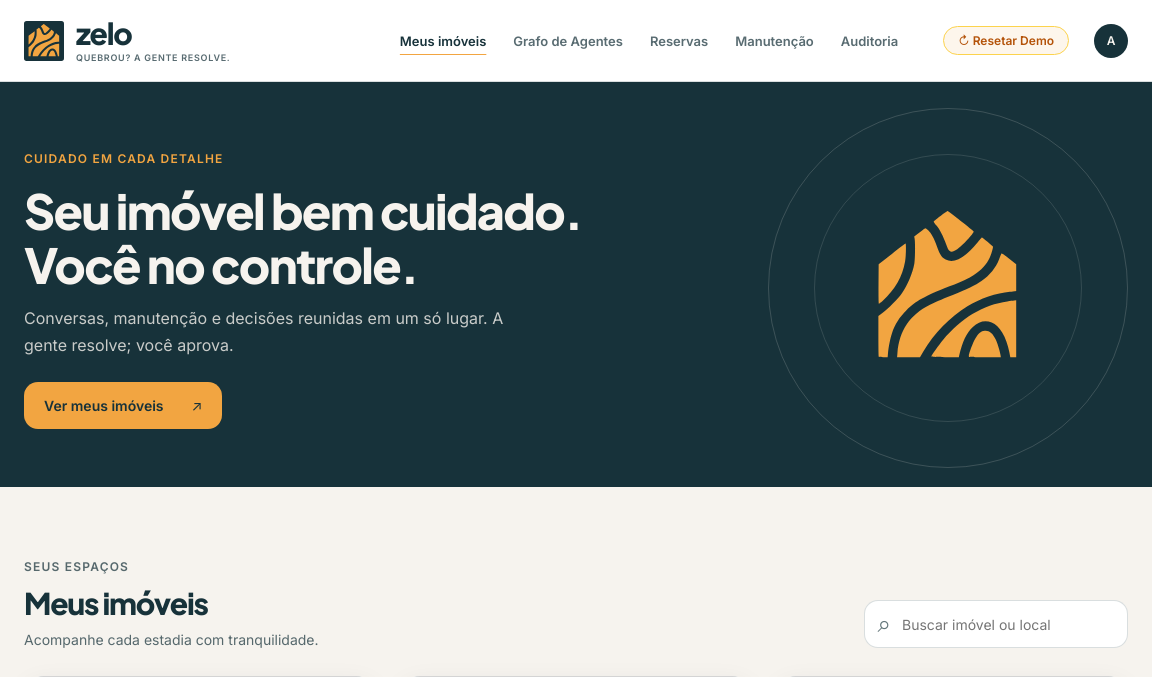
Test: navegação por imóvel › navega para o painel de auditoria & custos pela barra de navegação
This screenshot has width=1152, height=677.
Click the link "Auditoria" at {"x": 870, "y": 40}, box x1=841 y1=32 x2=898 y2=48
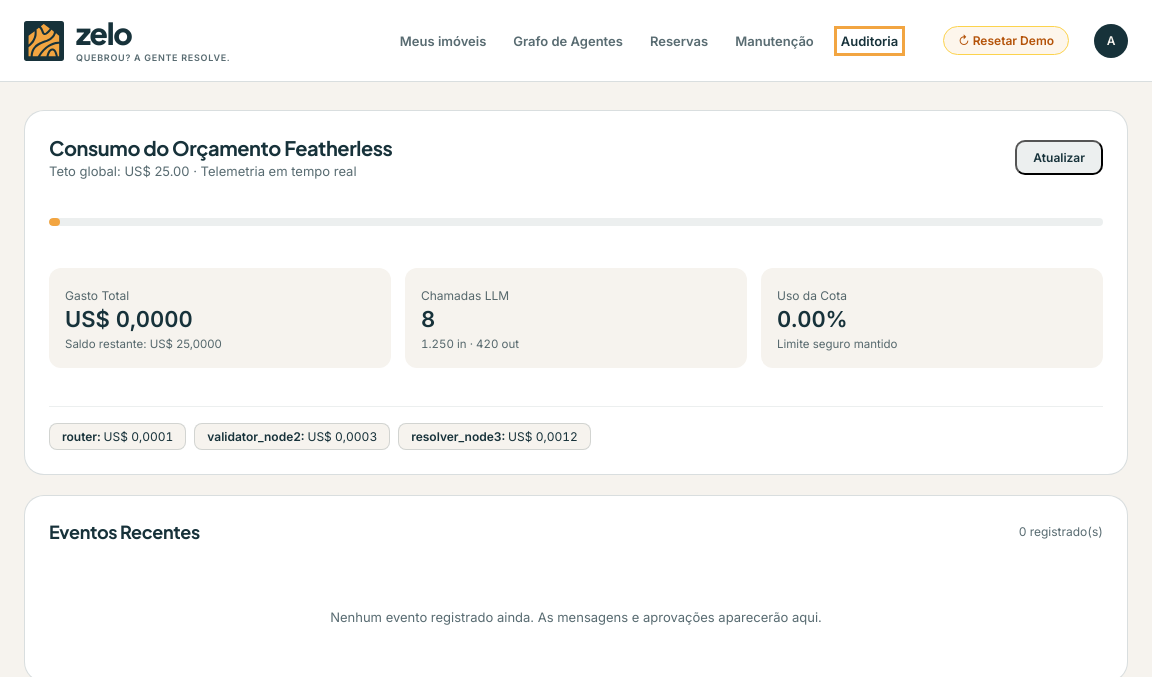
Check: the heading "Consumo do Orçamento Featherless" is shown, box x1=49 y1=135 x2=392 y2=160
Check: the text "Teto global: US$ 25.00 · Telemetria em tempo real" is shown, box x1=49 y1=163 x2=357 y2=179
